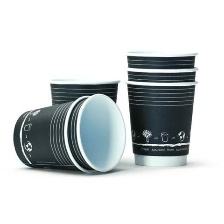paper_cup: (118, 46, 202, 171), (9, 90, 130, 176), (44, 74, 123, 174)
